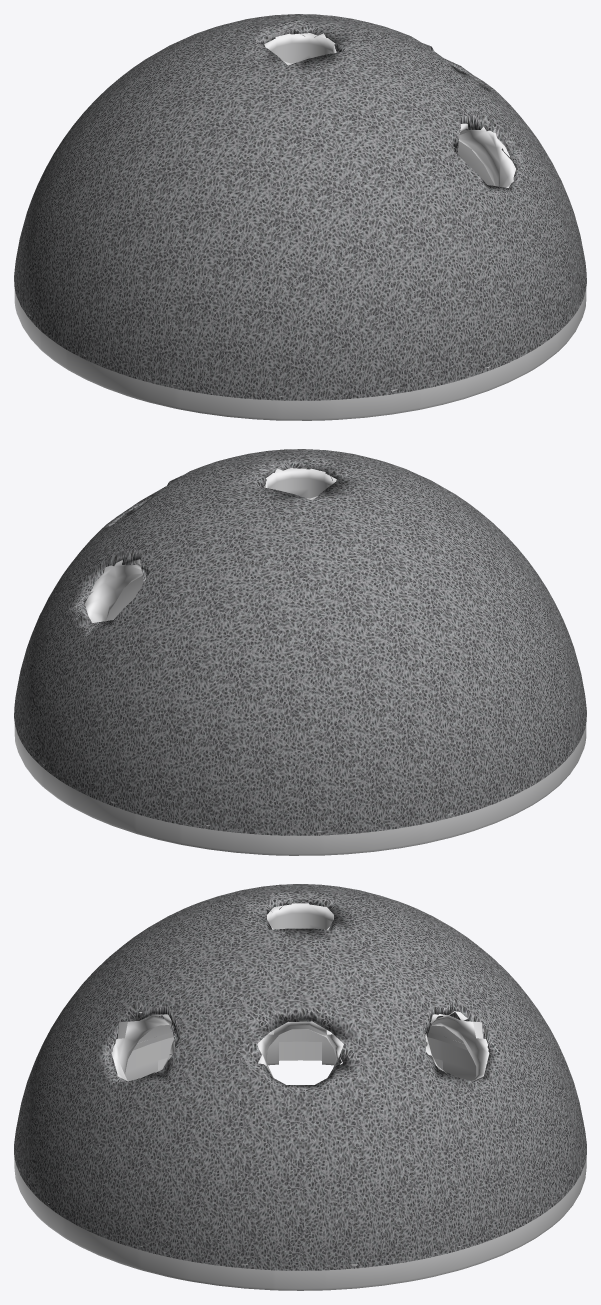
Rendered from cup_apex_3dtf_52_lod1.glb.
3 renders of one model, top to bottom at view 1: azimuth 30°, elevation 25°; view 2: azimuth 150°, elevation 25°; view 3: azimuth 270°, elevation 25°, orthographic.
Visible parts, largest first — view 1: cup_apex_3dtf_52; view 2: cup_apex_3dtf_52; view 3: cup_apex_3dtf_52.
Part boxes in pixels (left/top/right/bottom): cup_apex_3dtf_52: left=14, top=14, right=586, bottom=420; cup_apex_3dtf_52: left=14, top=449, right=586, bottom=855; cup_apex_3dtf_52: left=14, top=884, right=586, bottom=1290.
Size of the model in its own units: 0.0518 by 0.0257 by 0.0518.
2 materials, 1 textured.
